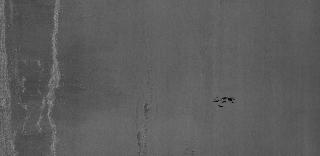inclusion: (208, 93, 240, 113)
silk spot: (1, 16, 73, 152), (131, 90, 159, 154)
